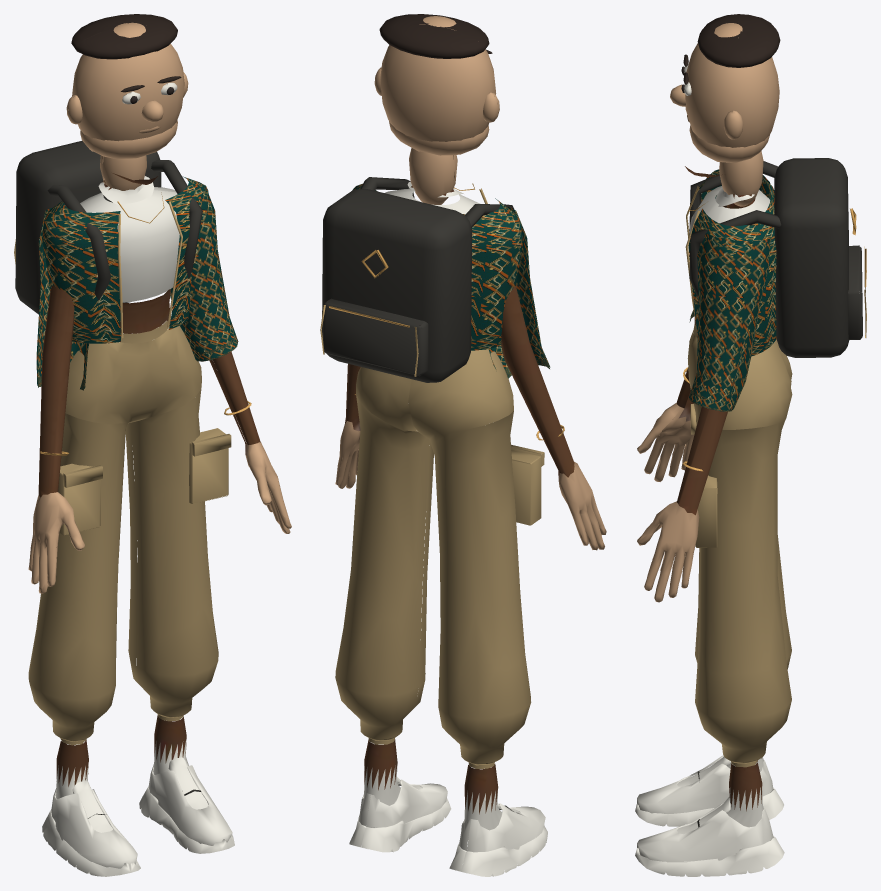
The model's file is character-tayo-resident.glb.
3 views of the same model, side by side, from view 1: azimuth 30°, elevation 25°; view 2: azimuth 150°, elevation 25°; view 3: azimuth 270°, elevation 25° (orthographic). The views are drawn at different scales.
Visible parts, largest first — view 1: Explorer; view 2: Explorer; view 3: Explorer.
Part boxes in pixels (x1,y1,x2,y2): Explorer: [14, 14, 291, 876]; Explorer: [320, 14, 606, 876]; Explorer: [635, 14, 866, 876].
Bounding box in the file's own units: 0.5362 × 1.65 × 0.426.
12 materials, 2 textured.
